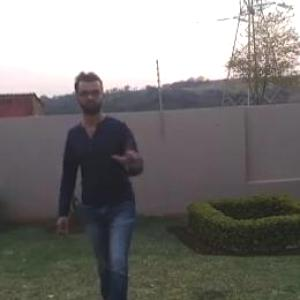land_hand: (111, 137, 150, 176)
